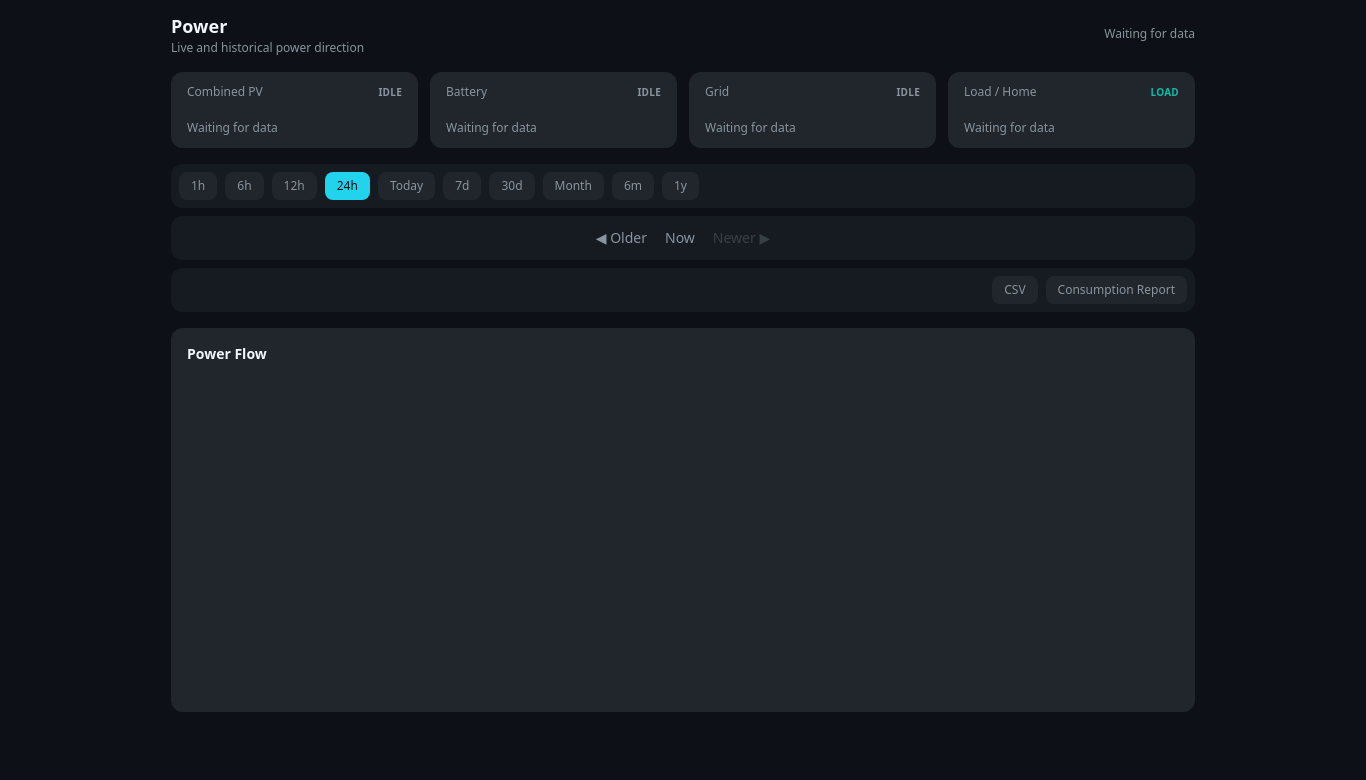
Scenario: <PowerPage/> — spike removal, cost overlay, PDF export › Consumption Report export › opens a new window for the PDF/HTML report in browser mode (not Tauri)
This screenshot has width=1366, height=780.
Expected: the button "CSV" is enabled, [992,276,1038,304]
Click the button "Consumption Report" at (1116, 290), box [1046,276,1187,304]
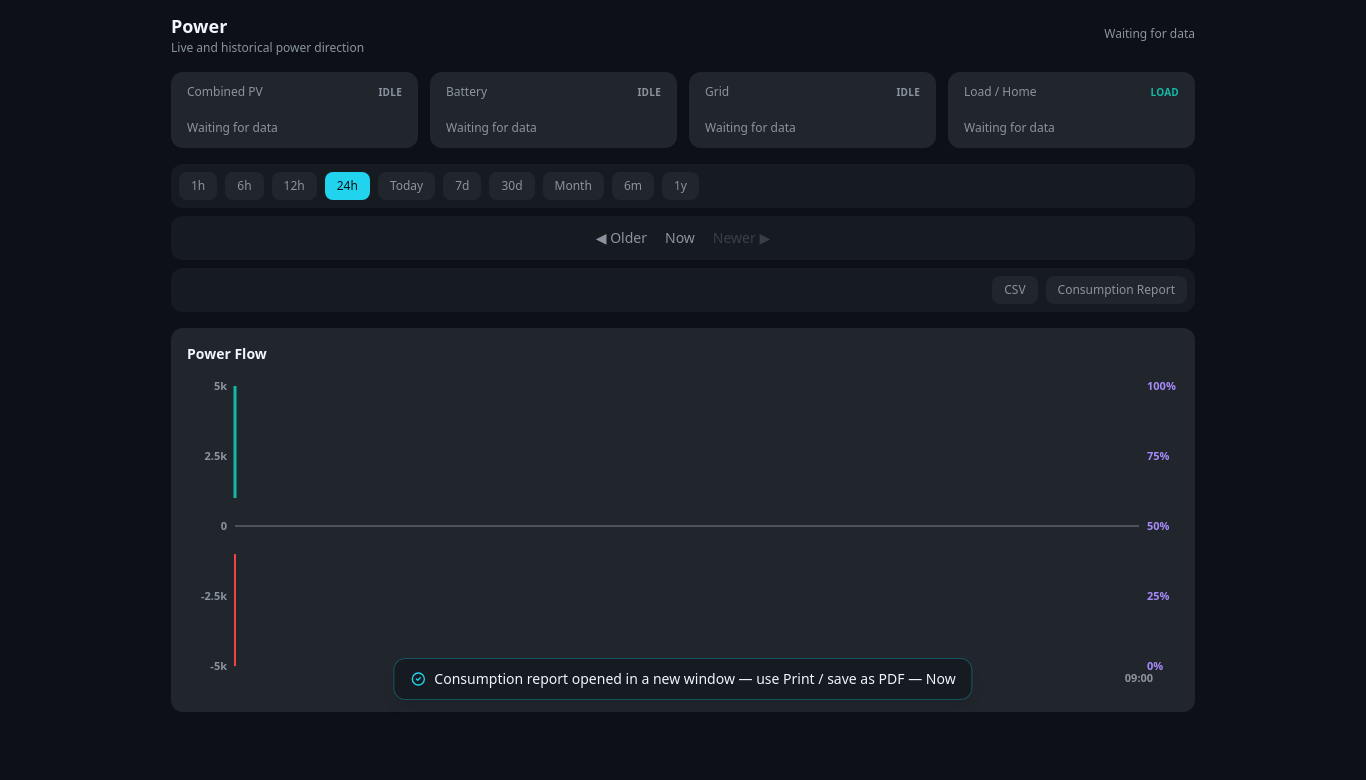
Now the text "opened in a new window" is shown, box [434,669,956,688]
